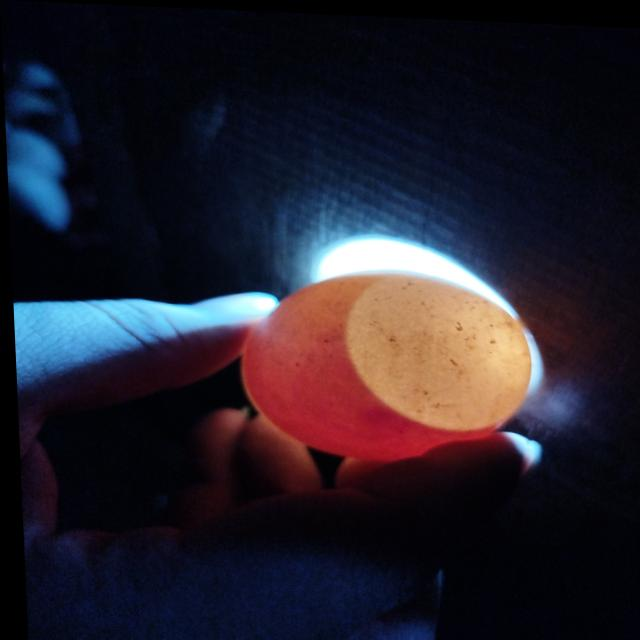Camara de Ar: (342, 269, 528, 426)
